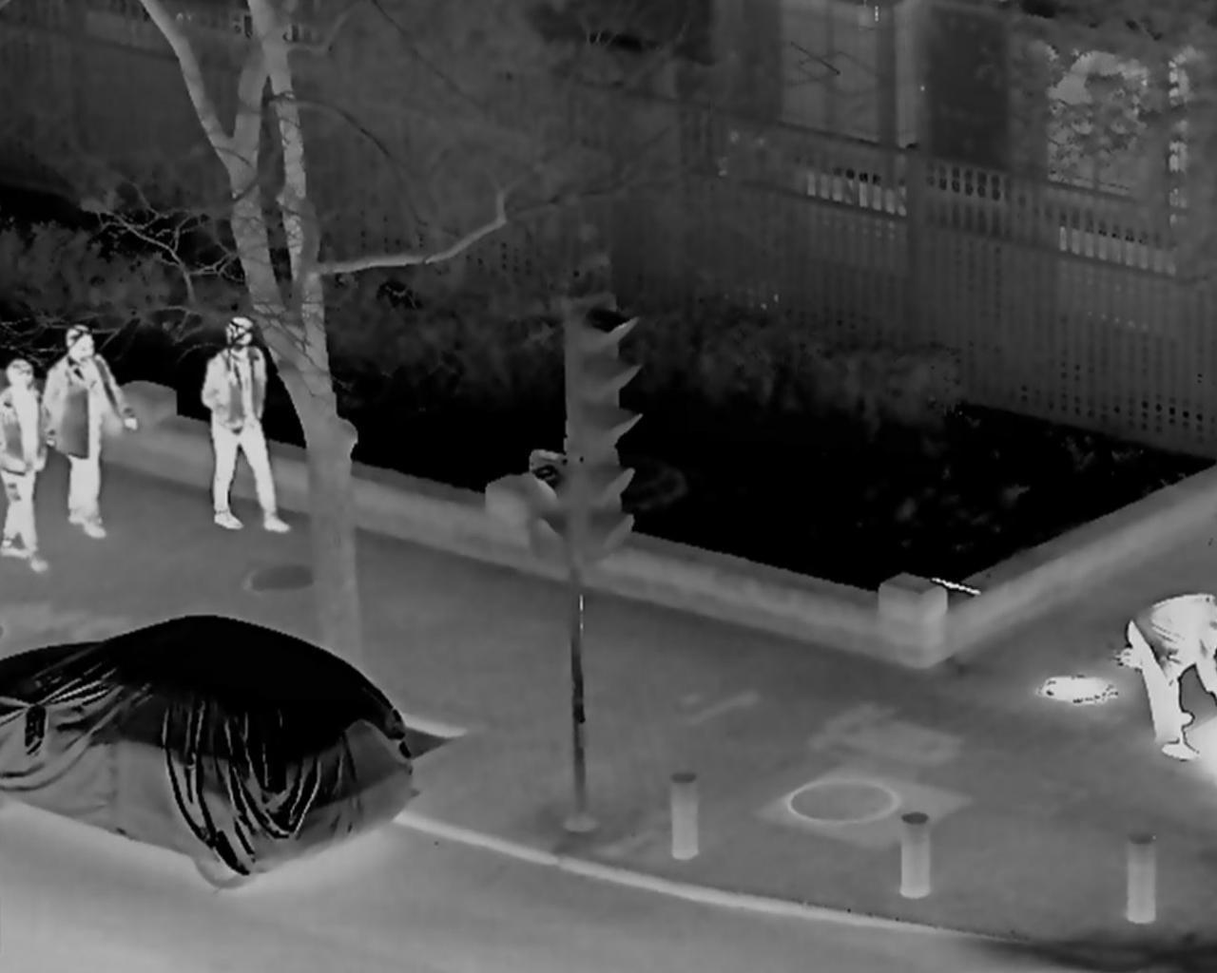person: (32, 326, 139, 541), (199, 315, 291, 538), (1122, 594, 1217, 758)
